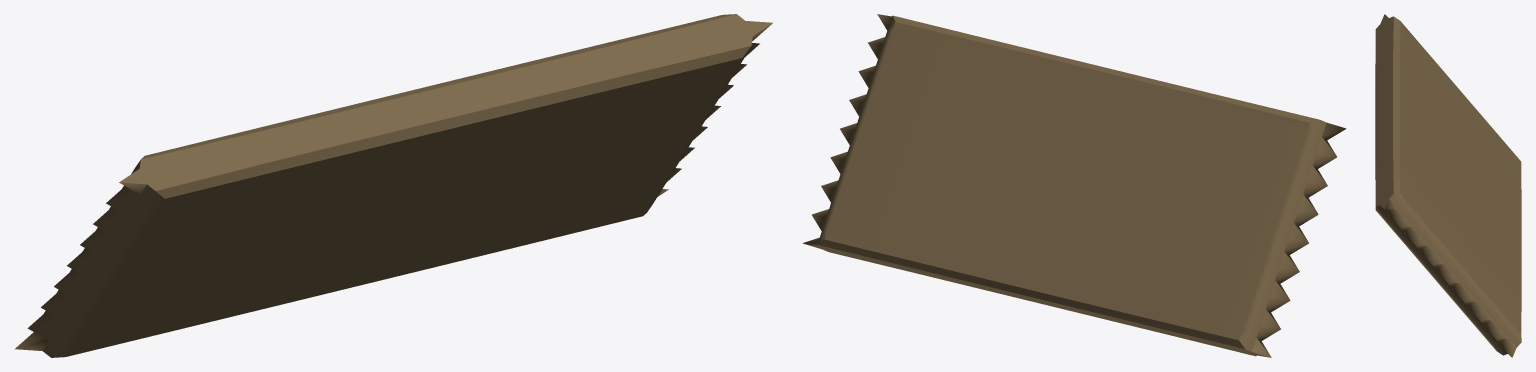
File: CandyBar.fbx
The picture shows the model from 3 angles, left to right: view 1: azimuth 30°, elevation 25°; view 2: azimuth 150°, elevation 25°; view 3: azimuth 270°, elevation 25°; orthographic projection. The views are drawn at different scales.
Visible parts, largest first — view 1: CandyBarD; view 2: CandyBarD; view 3: CandyBarD.
Boxes of the visible parts, <box> form: CandyBarD: <box>15,14,772,357</box>; CandyBarD: <box>802,14,1346,357</box>; CandyBarD: <box>1375,14,1521,357</box>.
Bounding box in the file's own units: 4.45 × 1.71 × 1.41.
